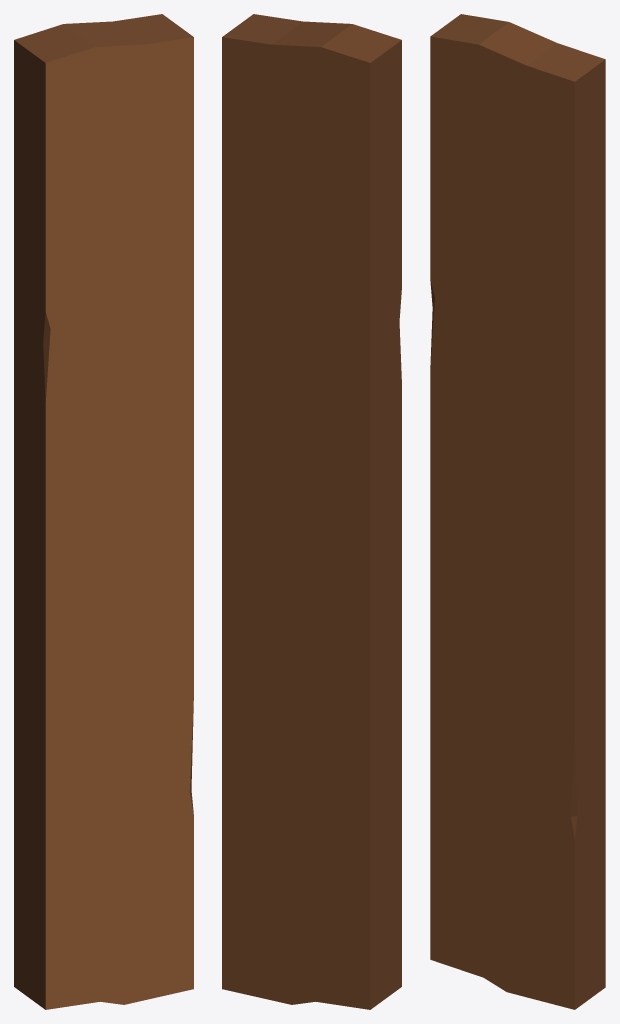
The model's file is Plank.fbx.
The picture shows the model from 3 angles, left to right: view 1: azimuth 30°, elevation 25°; view 2: azimuth 150°, elevation 25°; view 3: azimuth 330°, elevation 25°; orthographic projection. The views are drawn at different scales.
Visible parts, largest first — view 1: Cube; view 2: Cube; view 3: Cube.
Boxes of the visible parts, x1,y1,x2,y2 form: Cube: (14,14,193,1009); Cube: (222,14,401,1009); Cube: (430,14,605,1009).
Bounding box in the file's own units: 23.54 × 147 × 8.68.
